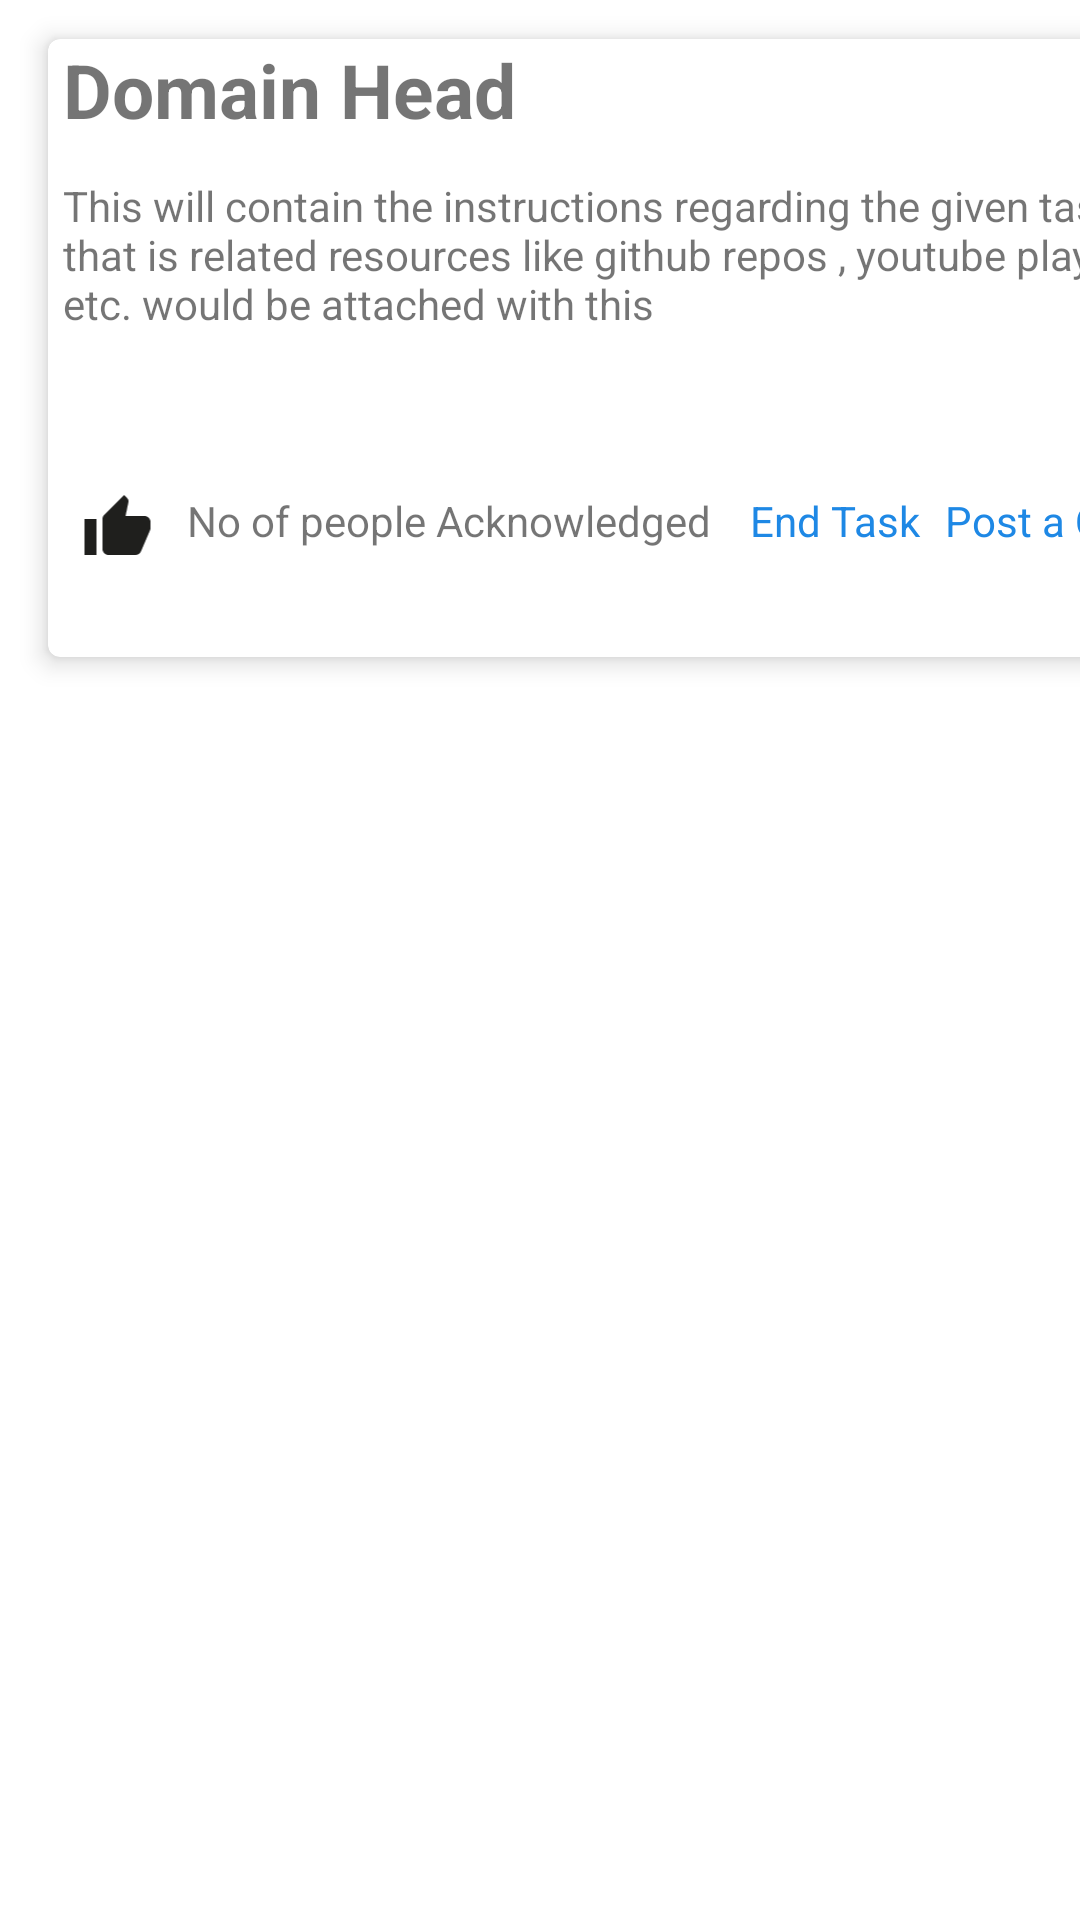

Named icons in this screenshot (1080px×1920px) and their bounding boxes, bbox(x1, y1, x2, y2):
thumb up: bbox(84, 495, 151, 555)
